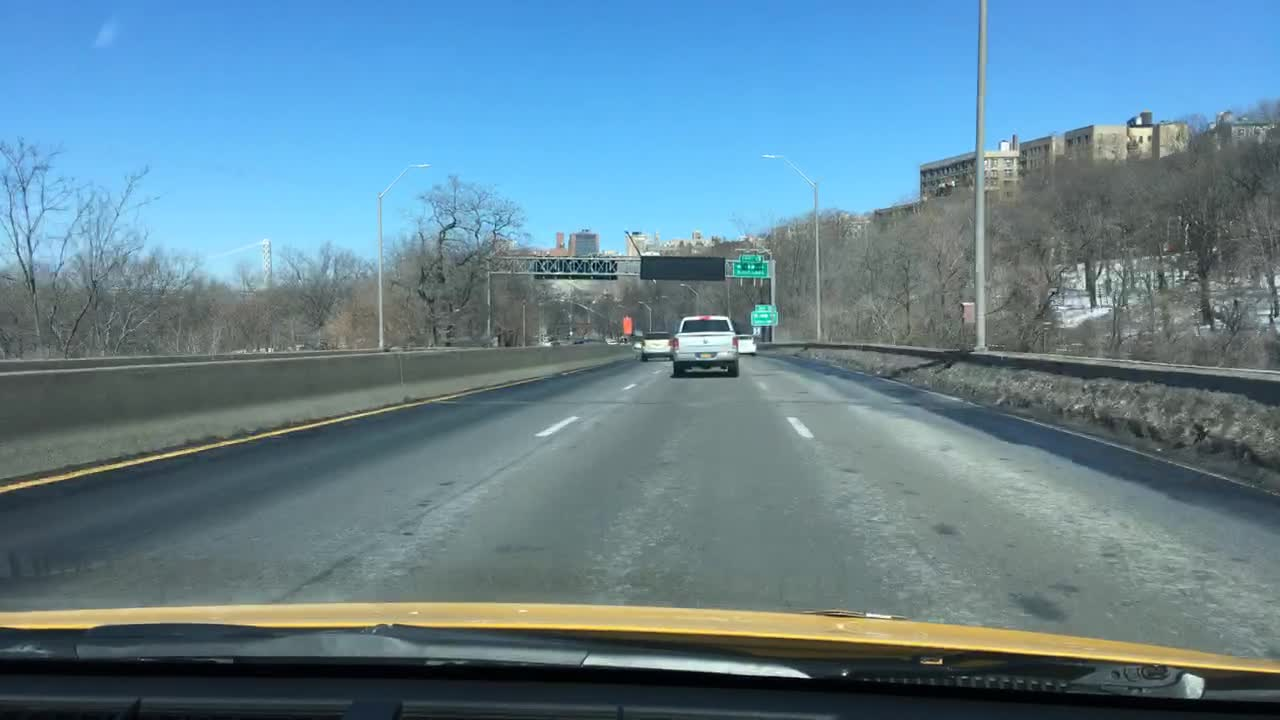car: (640, 331, 676, 360), (736, 335, 759, 356)
traffic sign: (534, 257, 617, 280), (640, 257, 724, 279), (749, 304, 779, 324), (732, 263, 768, 277), (738, 254, 762, 262)
truck: (671, 315, 736, 376)
